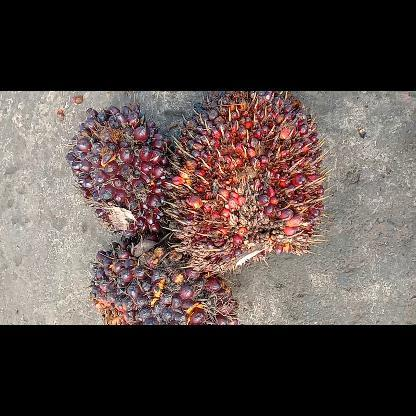Kurang masak: (67, 105, 179, 235), (90, 234, 240, 324)
TBS masak: (170, 90, 326, 262)
